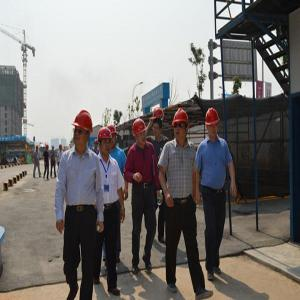blue: (52, 145, 56, 151)
none: (152, 118, 164, 138)
red: (73, 111, 93, 150), (174, 109, 190, 141), (206, 107, 220, 138), (133, 120, 149, 147), (99, 129, 113, 157), (108, 125, 118, 148), (94, 140, 99, 148), (60, 145, 64, 152), (46, 145, 50, 152), (36, 146, 40, 153)
